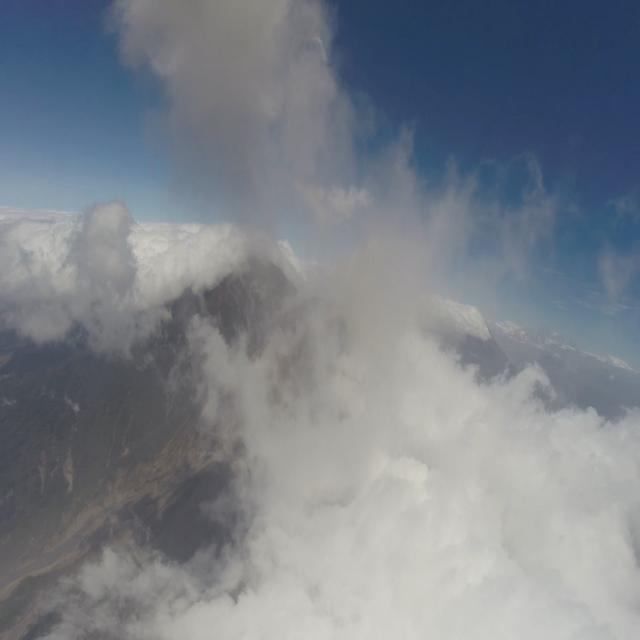Plume: (98, 0, 370, 225)
